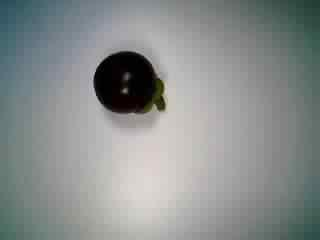mangosteen: (92, 46, 172, 122)
